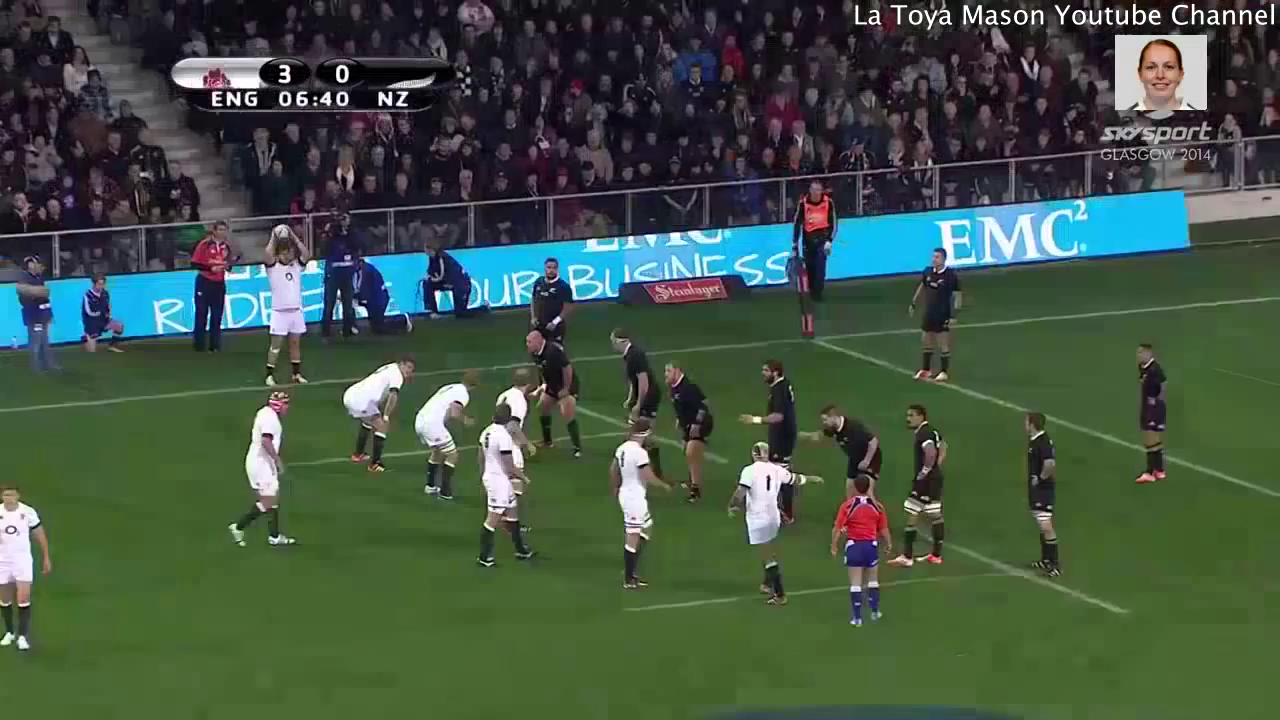ball: (269, 216, 292, 248)
lineout: (237, 210, 1099, 620)
player: (225, 388, 302, 558), (1012, 407, 1077, 592), (473, 404, 545, 570), (729, 442, 799, 607), (895, 250, 972, 395), (255, 217, 317, 395), (338, 357, 422, 476), (895, 404, 953, 568), (1, 479, 55, 655), (832, 476, 894, 628), (516, 330, 587, 460), (608, 417, 660, 593), (414, 370, 481, 503), (660, 360, 718, 509), (1124, 343, 1174, 488), (736, 360, 801, 458), (602, 328, 661, 435), (809, 404, 889, 476), (525, 254, 576, 338), (489, 366, 534, 420)
